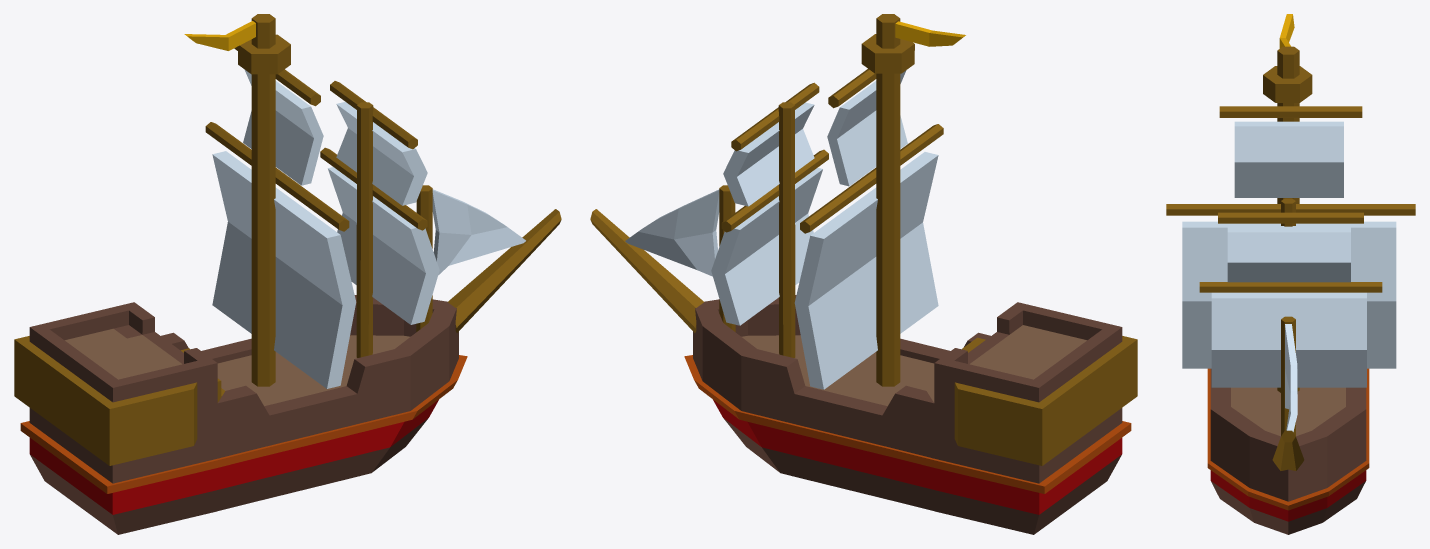
File: ShipExposition.fbx
The picture shows the model from 3 angles, left to right: view 1: azimuth 30°, elevation 25°; view 2: azimuth 150°, elevation 25°; view 3: azimuth 270°, elevation 25°; orthographic projection. The views are drawn at different scales.
Parts seen in each view (by area): view 1: ShipExposition; view 2: ShipExposition; view 3: ShipExposition.
Part boxes in pixels (box(x1,y1,x2,y2)): ShipExposition: box(14, 14, 561, 534); ShipExposition: box(590, 14, 1137, 534); ShipExposition: box(1166, 14, 1415, 534).
Size of the model in its own units: 160 by 138 by 74.75.
